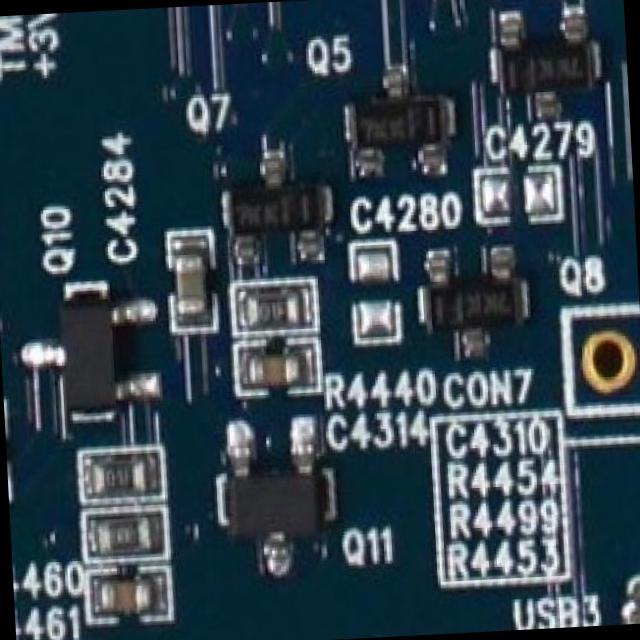capacitor: (96, 570, 162, 618), (175, 237, 212, 320), (239, 348, 309, 386)
resistor: (97, 511, 157, 558), (91, 458, 157, 498), (245, 290, 308, 328)
transistor: (217, 426, 331, 570), (29, 277, 142, 416), (411, 248, 539, 357), (344, 70, 451, 178), (496, 13, 602, 122), (218, 160, 332, 260)
